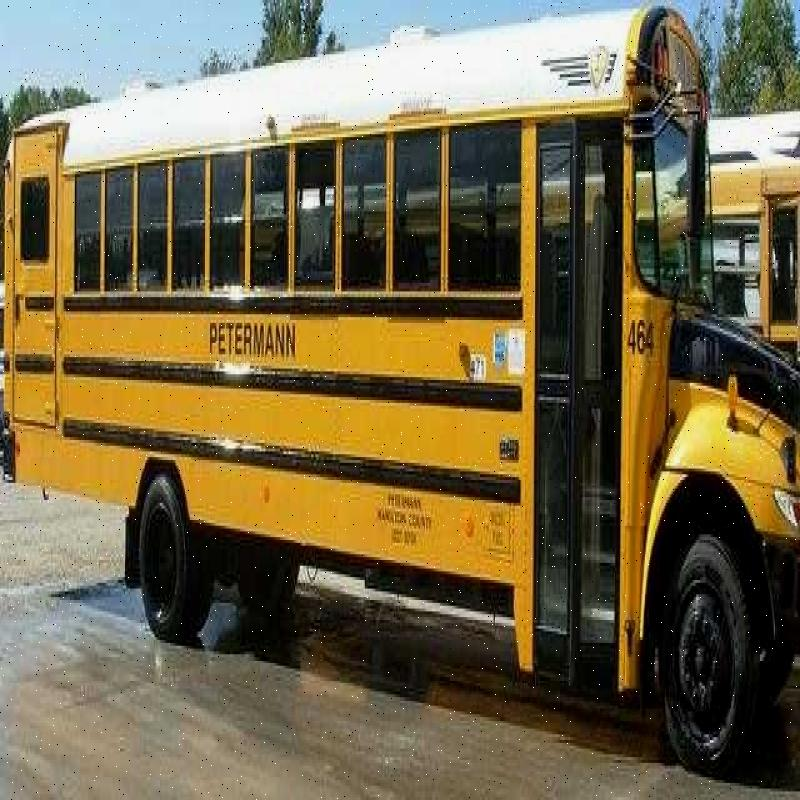bus: (6, 42, 792, 784)
